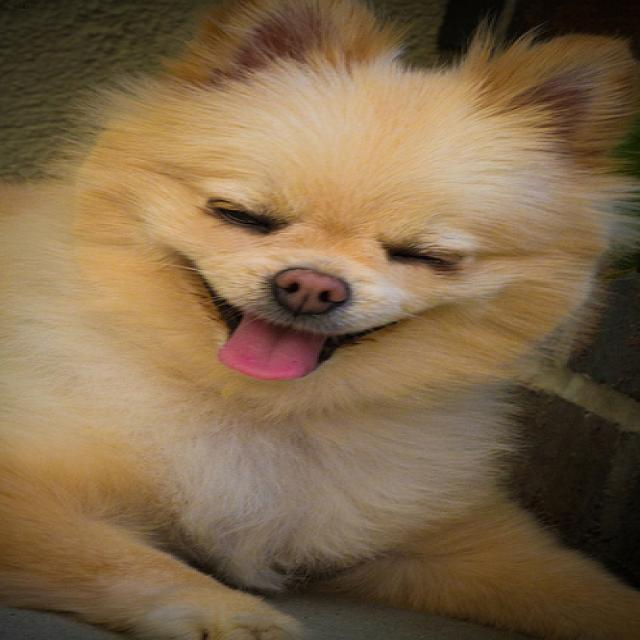dog-pomeranian: (2, 1, 636, 637)
